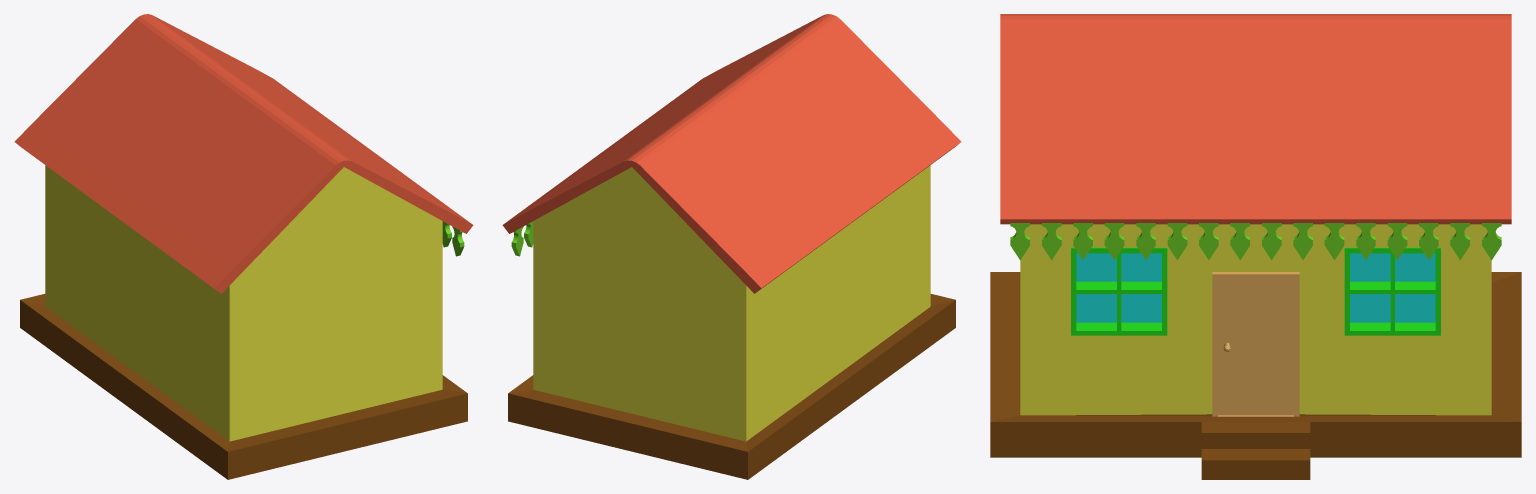
File: House 1.fbx
3 views of the same model, side by side, from view 1: azimuth 30°, elevation 25°; view 2: azimuth 150°, elevation 25°; view 3: azimuth 270°, elevation 25° (orthographic). The views are drawn at different scales.
Parts seen in each view (by area): view 1: Wall, Roof, Footing; view 2: Wall, Roof, Footing; view 3: Roof, Wall, Footing, Door, Inner Window, Gigi Balang, Windows.
Boxes of the visible parts, x1,y1,x2,y2 form: Wall: (45, 165, 442, 441); Roof: (14, 14, 473, 293); Footing: (20, 294, 467, 479); Wall: (533, 165, 930, 441); Roof: (502, 14, 961, 293); Footing: (508, 294, 955, 479); Roof: (1000, 14, 1511, 224); Wall: (1020, 224, 1491, 415); Footing: (990, 272, 1521, 479); Door: (1212, 272, 1299, 416); Inner Window: (1076, 253, 1435, 322); Gigi Balang: (1010, 223, 1501, 260); Windows: (1071, 247, 1440, 335).
Bounding box in the file's own units: 536 × 515 × 676.
